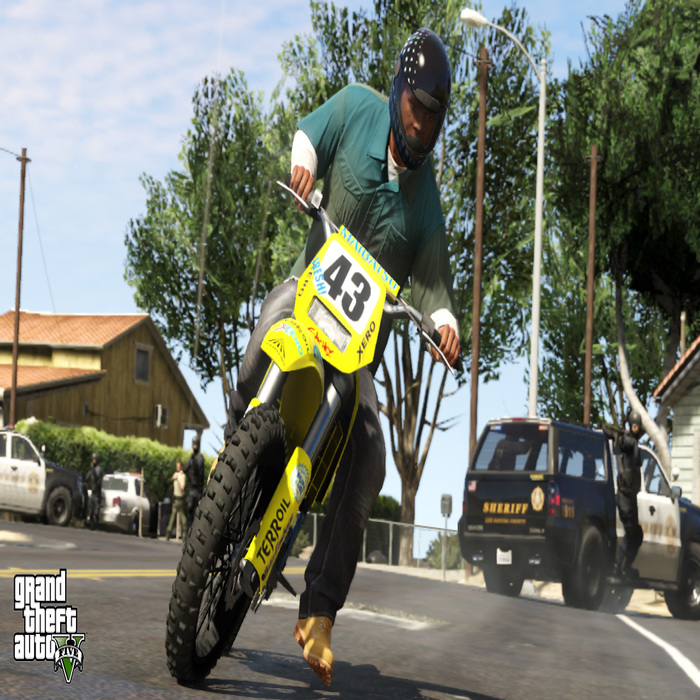h: (389, 23, 452, 171)
